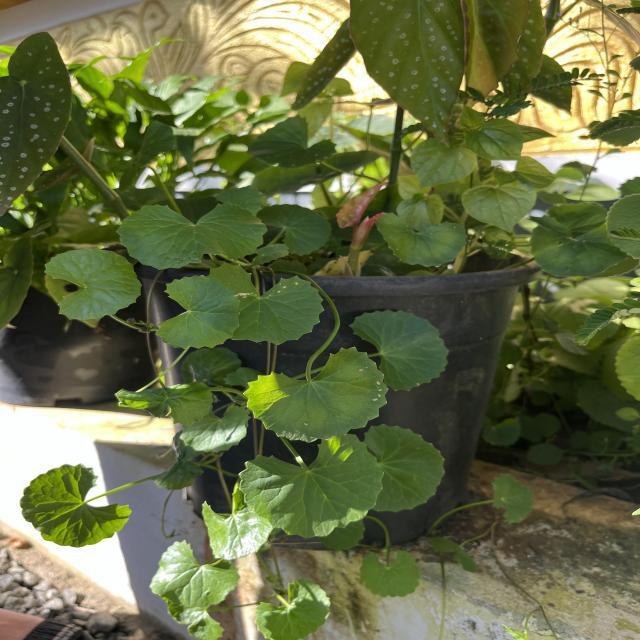Centella asiatica: (234, 431, 387, 540), (240, 344, 390, 444), (114, 201, 270, 271), (205, 260, 327, 346), (41, 246, 144, 322), (152, 272, 243, 352)
